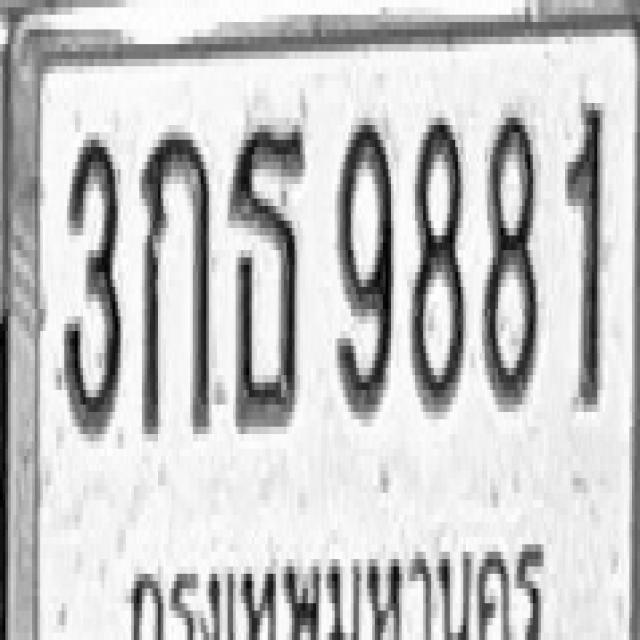1: (564, 96, 604, 412)
10GorGai: (139, 125, 212, 434)
3: (61, 128, 120, 438)
33ThorThong: (226, 114, 307, 430)
8: (408, 110, 464, 412), (482, 107, 538, 408)
9: (334, 110, 394, 420)
Bangkok: (123, 538, 557, 640)
